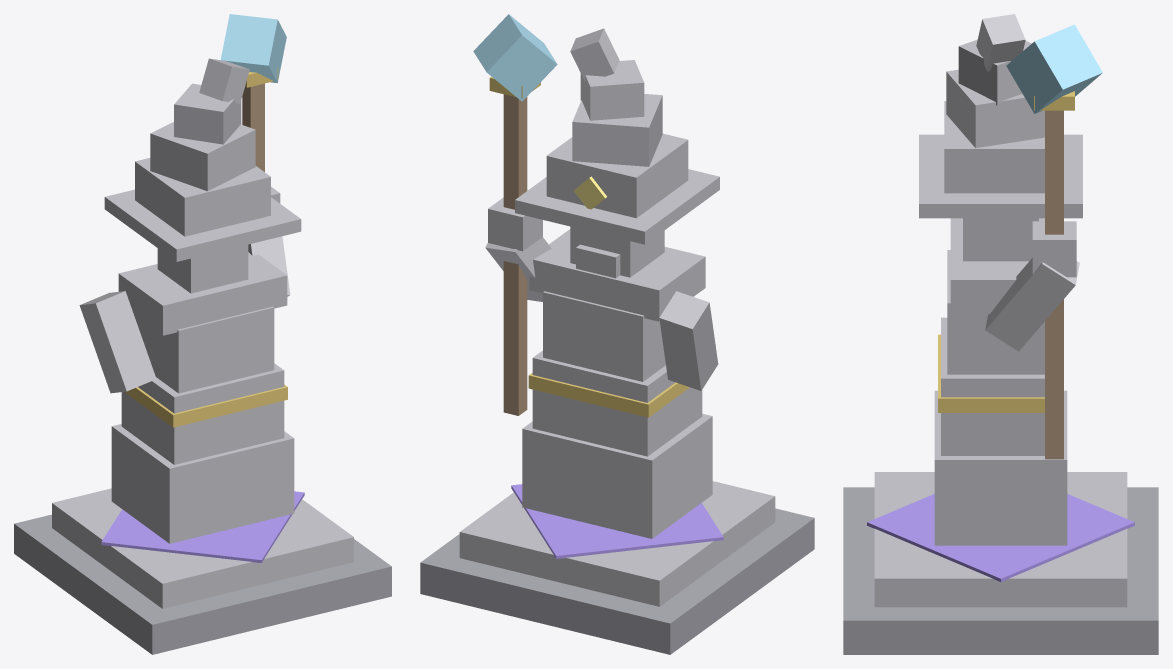
File: WizardStatue.fbx
3 renders of one model, left to right at view 1: azimuth 30°, elevation 25°; view 2: azimuth 150°, elevation 25°; view 3: azimuth 270°, elevation 25°, orthographic. The views are drawn at different scales.
Parts seen in each view (by area): view 1: Plinth, Robe, Plinth.001, Robe.001, Robe.002, Shoulders, Hat, Hat_Brim, Hat.001, Plinth_Rune, Arm, Staff_Orb (+6 smaller); view 2: Plinth, Robe, Plinth.001, Robe.001, Robe.002, Shoulders, Hat, Staff, Hat_Brim, Plinth_Rune, Hat.001, Arm (+9 smaller); view 3: Plinth, Plinth.001, Robe, Plinth_Rune, Robe.001, Hat_Brim, Hat, Staff, Staff_Orb, Robe.002, Hat.001, Arm.001 (+6 smaller).
Boxes of the visible parts, <box> form: Plinth: <box>14,514,391,654</box>; Robe: <box>111,424,294,543</box>; Plinth.001: <box>52,488,353,608</box>; Robe.001: <box>121,363,284,464</box>; Robe.002: <box>134,306,274,393</box>; Shoulders: <box>118,252,287,335</box>; Hat: <box>135,158,270,236</box>; Hat_Brim: <box>104,189,301,261</box>; Hat.001: <box>150,122,255,191</box>; Plinth_Rune: <box>101,491,304,563</box>; Arm: <box>79,291,156,393</box>; Staff_Orb: <box>220,14,286,83</box>; Plinth: <box>420,508,814,654</box>; Robe: <box>522,413,712,538</box>; Plinth.001: <box>459,481,775,606</box>; Robe.001: <box>532,350,702,456</box>; Robe.002: <box>543,291,665,381</box>; Shoulders: <box>529,229,705,321</box>; Hat: <box>546,133,688,218</box>; Staff: <box>503,94,527,415</box>; Hat_Brim: <box>515,169,719,244</box>; Plinth_Rune: <box>511,484,723,558</box>; Hat.001: <box>572,94,662,166</box>; Arm: <box>659,291,718,390</box>; Plinth: <box>843,487,1158,654</box>; Plinth.001: <box>874,472,1127,607</box>; Robe: <box>934,390,1067,545</box>; Plinth_Rune: <box>867,494,1134,581</box>; Robe.001: <box>941,317,1044,455</box>; Hat_Brim: <box>919,134,1082,218</box>; Hat: <box>944,101,1044,193</box>; Staff: <box>1045,110,1063,459</box>; Staff_Orb: <box>1006,24,1102,113</box>; Robe.002: <box>947,250,1044,374</box>; Hat.001: <box>946,69,1044,148</box>; Arm.001: <box>985,258,1079,351</box>.
Size of the model in its own units: 280 by 584 by 280.
